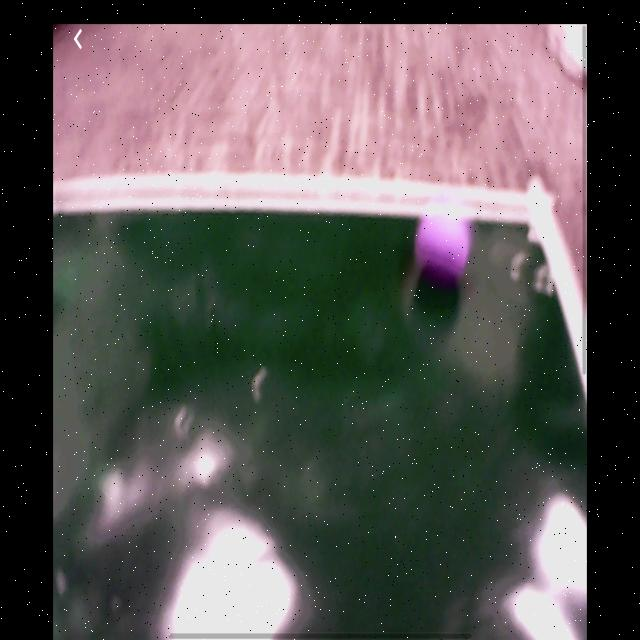ball: (413, 212, 473, 288)
